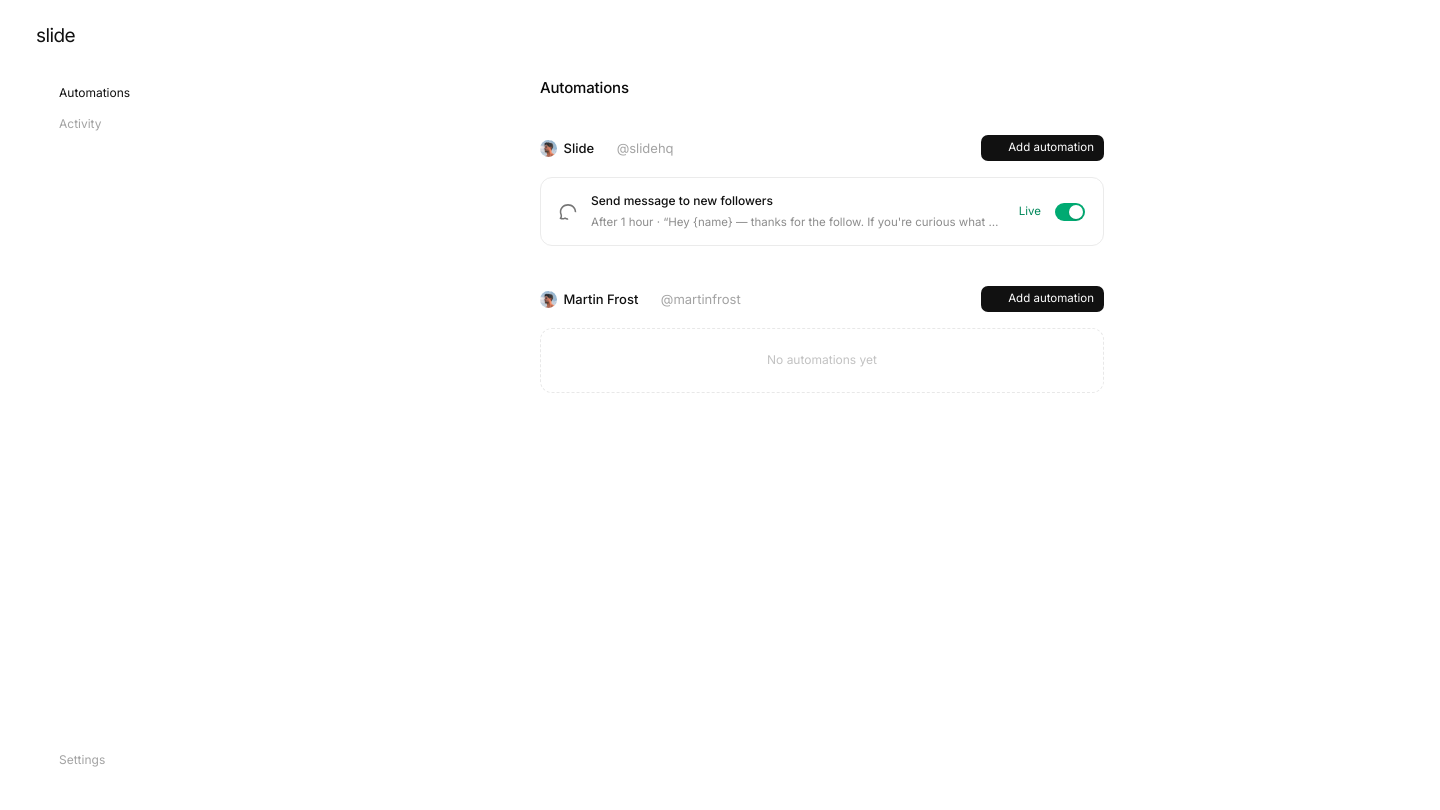
App › moves between views from the sidebar
The image size is (1440, 810).
Click the button "Activity" at (69, 124), box [36,115,102,133]
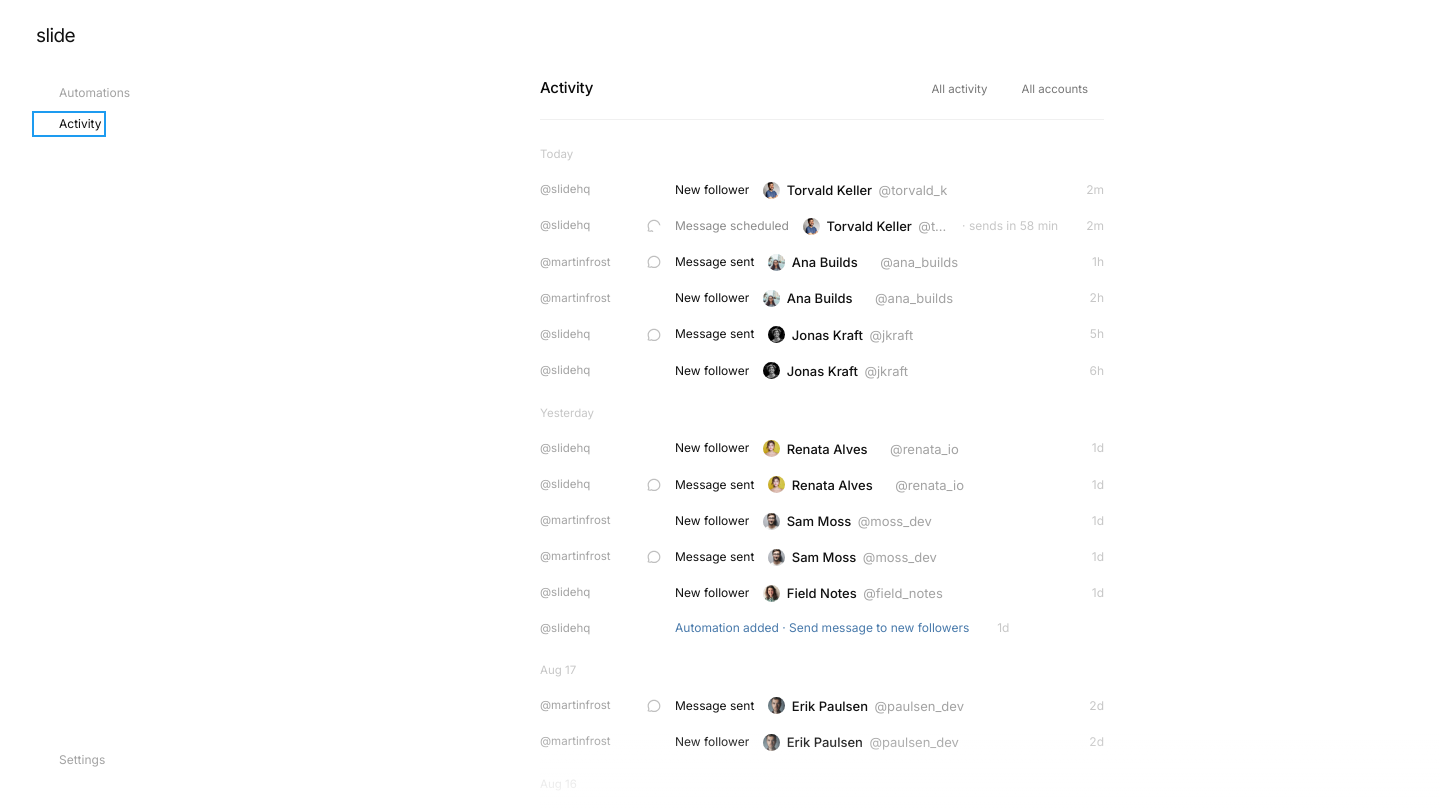
Result: the heading "Activity" is shown at [540,76,593,99]
Result: the text "New follower" below "Today" is shown at [675,182,749,197]
Click the button "Settings" at (71, 761), box [36,751,105,770]
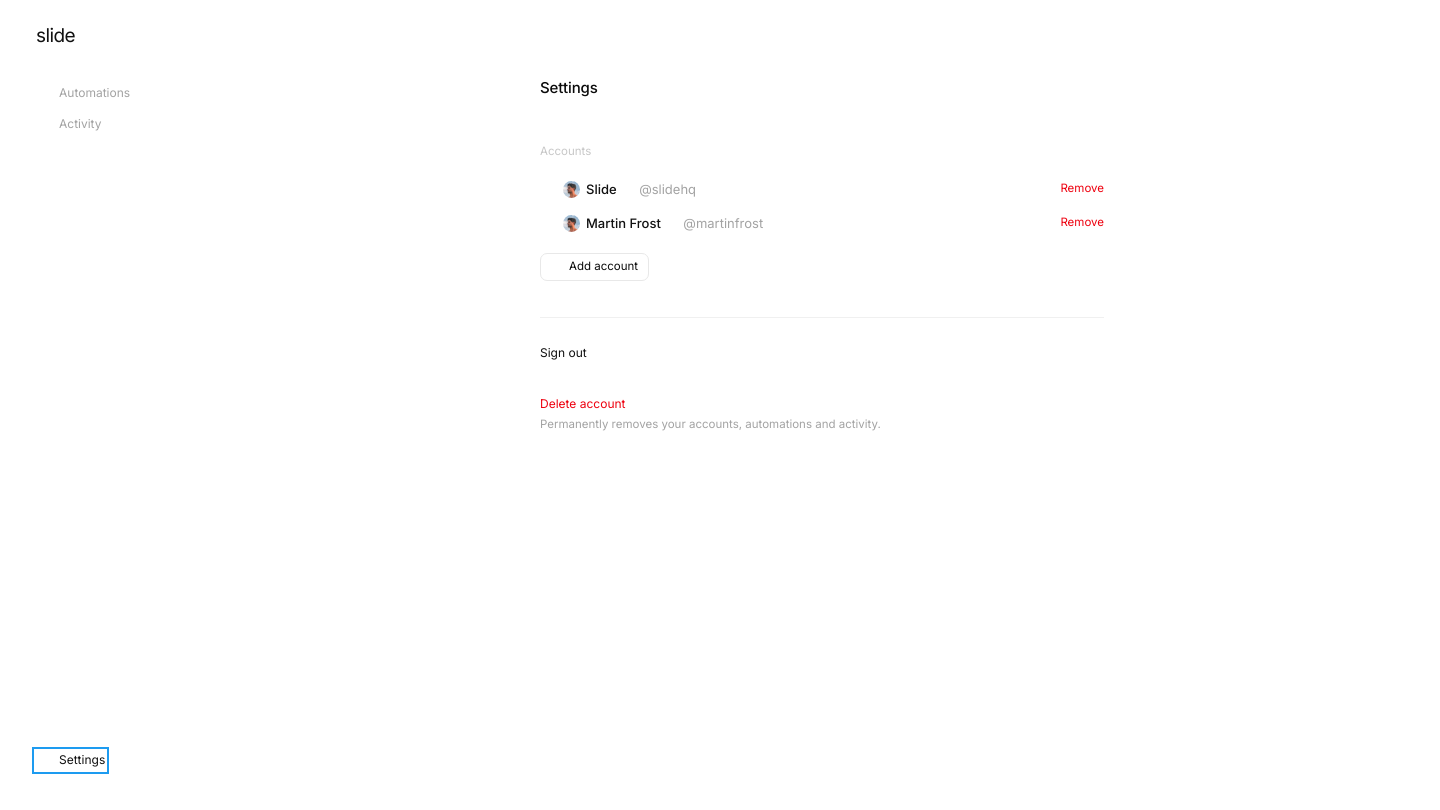
Result: the heading "Settings" is shown at [540,78,598,97]
